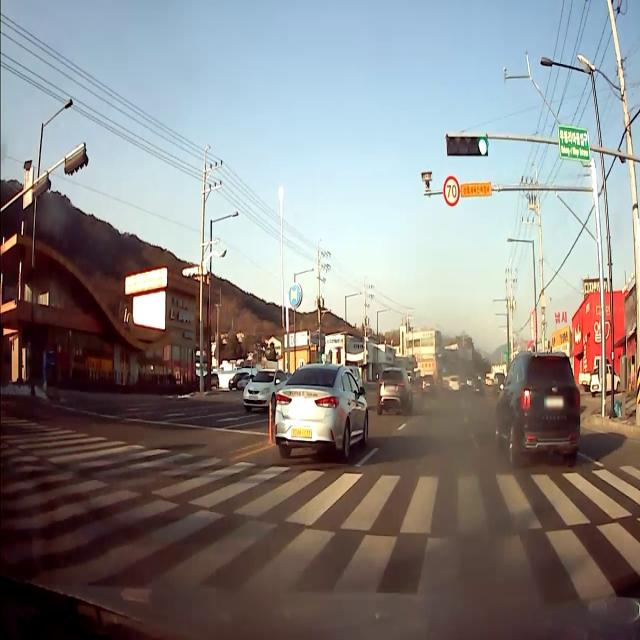Green Light: (477, 133, 488, 156)
